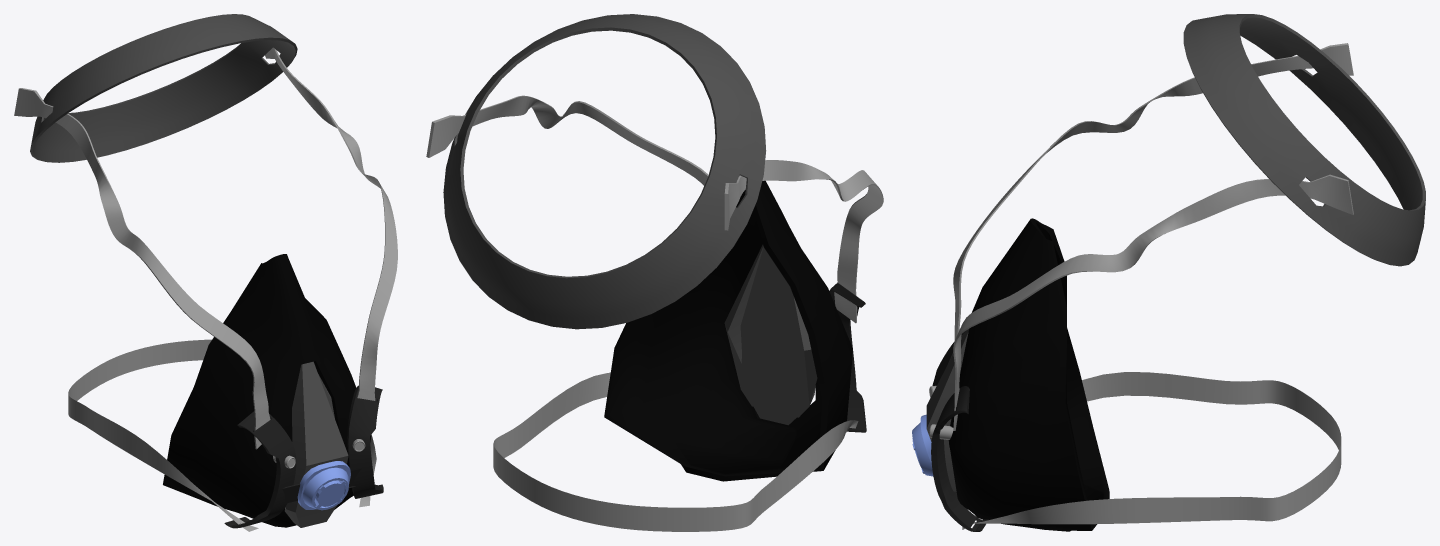
File: Masker.fbx
The picture shows the model from 3 angles, left to right: view 1: azimuth 30°, elevation 25°; view 2: azimuth 150°, elevation 25°; view 3: azimuth 270°, elevation 25°; orthographic projection. The views are drawn at different scales.
Visible parts, largest first — view 1: Cylinder001_03 - black plastic_0; view 2: Cylinder001_03 - black plastic_0; view 3: Cylinder001_03 - black plastic_0.
Boxes of the visible parts, x1,y1,x2,y2 form: Cylinder001_03 - black plastic_0: (14,14,397,531); Cylinder001_03 - black plastic_0: (426,14,883,531); Cylinder001_03 - black plastic_0: (912,14,1425,531).
Size of the model in its own units: 1886 by 2951 by 2883.
